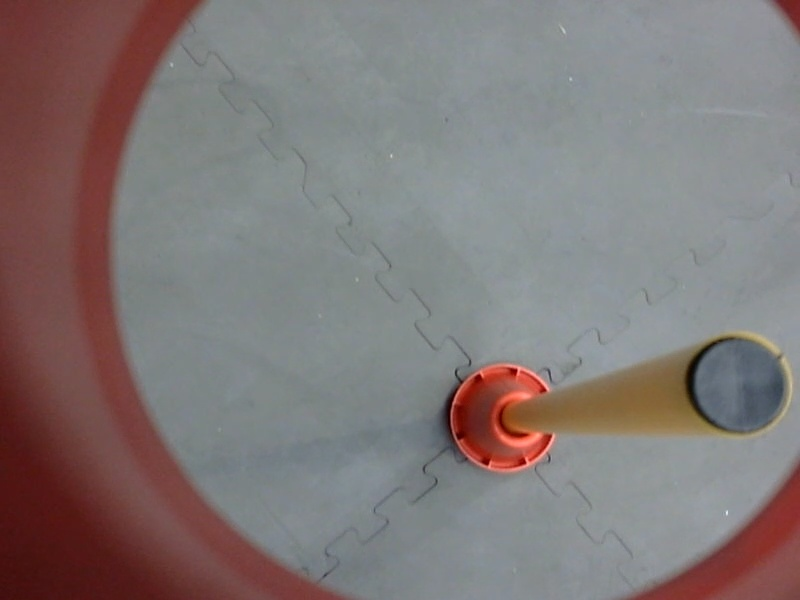tip: (678, 321, 800, 443)
